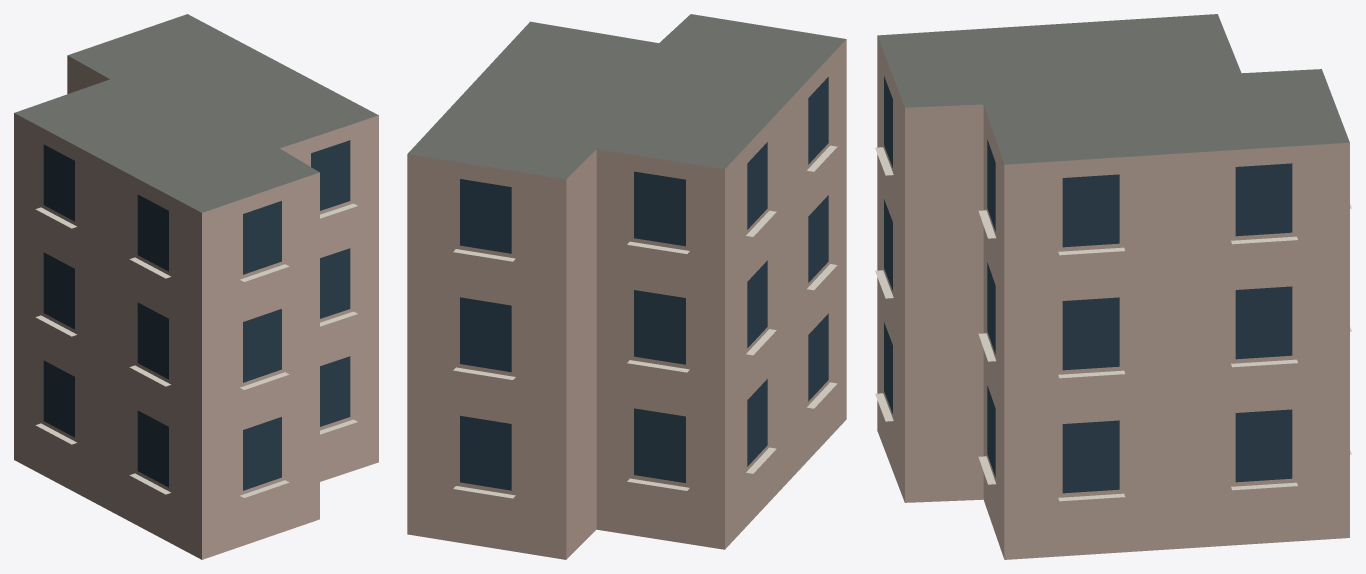
3 renders of one model, left to right at view 1: azimuth 30°, elevation 25°; view 2: azimuth 150°, elevation 25°; view 3: azimuth 270°, elevation 25°, orthographic. The views are drawn at different scales.
Visible parts, largest first — view 1: Footprint 0, Inferred window bays, Window sills; view 2: Footprint 0, Inferred window bays, Window sills; view 3: Footprint 0, Inferred window bays, Window sills.
Boxes of the visible parts, left/top/right/bottom form: Footprint 0: left=14, top=14, right=378, bottom=559; Inferred window bays: left=43, top=140, right=350, bottom=490; Window sills: left=35, top=203, right=357, bottom=497; Footprint 0: left=407, top=14, right=846, bottom=559; Inferred window bays: left=460, top=77, right=828, bottom=490; Window sills: left=453, top=145, right=837, bottom=498; Footprint 0: left=877, top=14, right=1349, bottom=559; Inferred window bays: left=884, top=76, right=1292, bottom=493; Window sills: left=875, top=147, right=1351, bottom=501.
Bounding box in the file's own units: 7.82 × 9.41 × 10.3.
